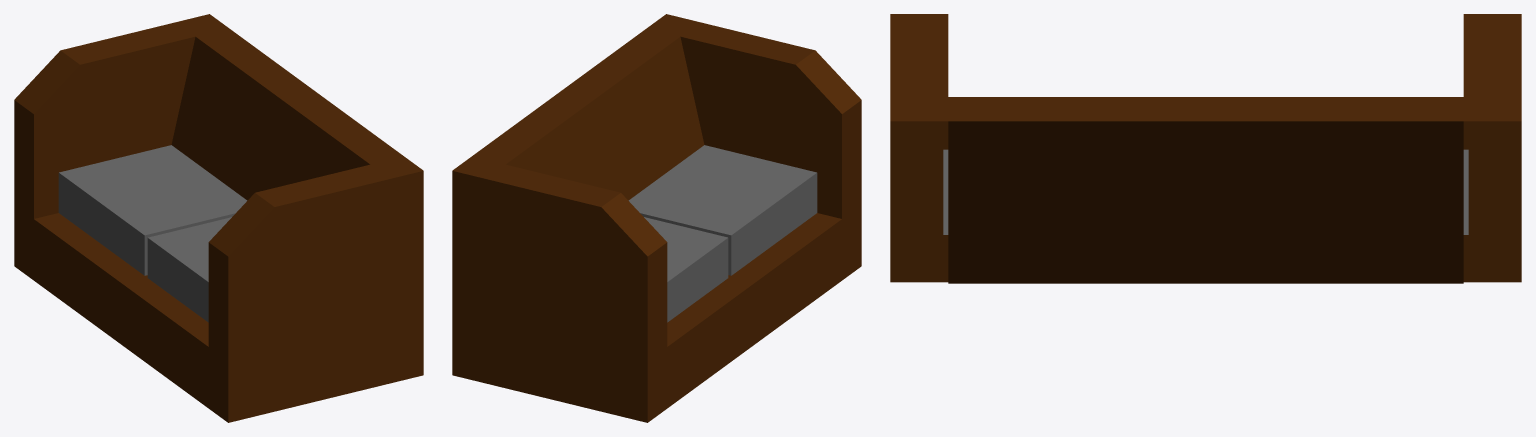
The model's file is Sofa.fbx.
3 renders of one model, left to right at view 1: azimuth 30°, elevation 25°; view 2: azimuth 150°, elevation 25°; view 3: azimuth 270°, elevation 25°, orthographic. The views are drawn at different scales.
Parts seen in each view (by area): view 1: Cube.002, Cube.003, Cube.004; view 2: Cube.002, Cube.004, Cube.003; view 3: Cube.002.
Part boxes in pixels (x1=…): Cube.002: x1=14, y1=14, x2=423, y2=422; Cube.003: x1=58, y1=145, x2=247, y2=275; Cube.004: x1=147, y1=217, x2=231, y2=322; Cube.002: x1=452, y1=14, x2=861, y2=422; Cube.004: x1=628, y1=145, x2=817, y2=275; Cube.003: x1=644, y1=217, x2=728, y2=322; Cube.002: x1=890, y1=14, x2=1521, y2=283.
Bounding box in the file's own units: 78.96 × 78.96 × 150.
